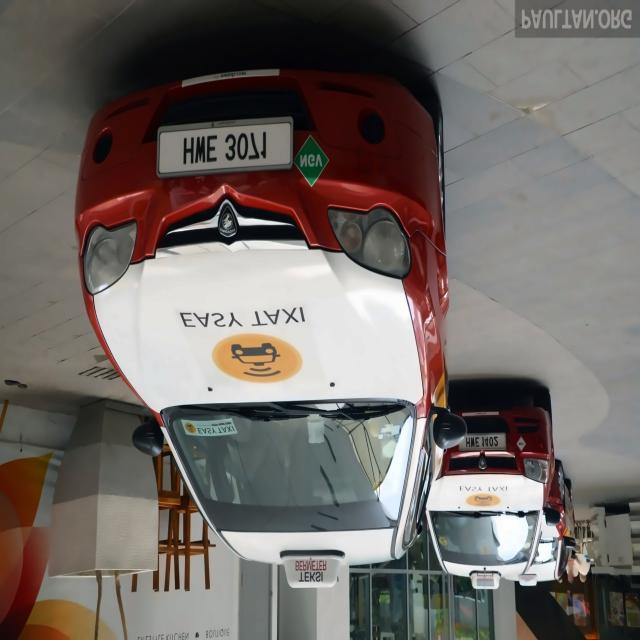car-plate: (155, 115, 293, 176), (452, 432, 508, 456)
